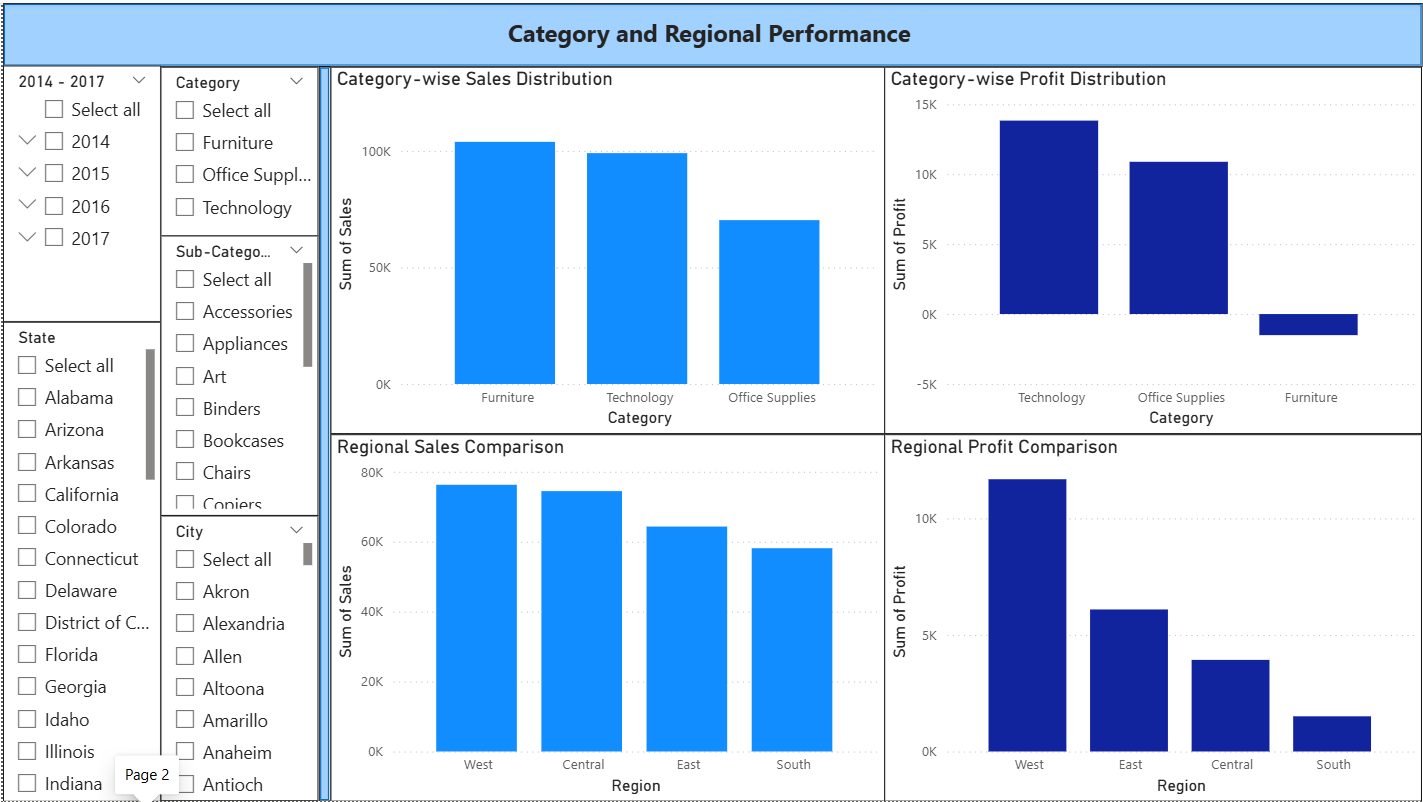

The page's visual inventory and layout, read from the dashboard file:
{"tool":"powerbi","page":{"name":"Page 2","canvas":[1280,720],"ordinal":1},"visuals":[{"type":"shape","box":[0,0,1280.3,57.6],"z":0},{"type":"shape","box":[285,57.5,10,662.5],"z":7000},{"type":"columnChart","title":"Category-wise Sales Distribution","fields":{"Category":["Sample - Superstore.Category"],"Y":["Sum(Sample - Superstore.Sales)"]},"box":[295,57.5,500,331.2],"z":8000},{"type":"columnChart","title":"Category-wise Profit Distribution","fields":{"Category":["Sample - Superstore.Category"],"Y":["Sum(Sample - Superstore.Profit)"]},"box":[795,57.5,485,331.2],"z":9000},{"type":"columnChart","title":"Regional Sales Comparison","fields":{"Y":["Sum(Sample - Superstore.Sales)"],"Category":["Sample - Superstore.Region"]},"box":[295,388.8,500,331.2],"z":10000},{"type":"columnChart","title":"Regional Profit Comparison","fields":{"Category":["Sample - Superstore.Region"],"Y":["Sum(Sample - Superstore.Profit)"]},"box":[795,388.8,485,331.2],"z":11000},{"type":"slicer","title":"Timeline","fields":{"Values":["Sample - Superstore.Order Date.Variation.Date Hierarchy.Year","Sample - Superstore.Order Date.Variation.Date Hierarchy.Quarter","Sample - Superstore.Order Date.Variation.Date Hierarchy.Month","Sample - Superstore.Order Date.Variation.Date Hierarchy.Day"]},"box":[0,56.2,142.5,231.2],"z":11001},{"type":"slicer","fields":{"Values":["Sample - Superstore.State"]},"box":[0,287.5,142.5,432.5],"z":11002},{"type":"slicer","fields":{"Values":["Sample - Superstore.City"]},"box":[142.5,462.5,142.5,257.5],"z":11003},{"type":"slicer","fields":{"Values":["Sample - Superstore.Category"]},"box":[142.5,57.5,142.5,152.5],"z":11004},{"type":"slicer","fields":{"Values":["Sample - Superstore.Sub-Category"]},"box":[142.5,210,142.5,252.5],"z":11005},{"type":"textbox","box":[406.2,6.9,467.9,43.9],"z":11006}]}

Visuals, with their boxes on the page's 1280x720 design canvas (x1, y1, x2, y2). These are canvas units, not pixel positions in the 1423x802 screenshot, which may show the page scaled, cropped or inside an application window:
shape: [x1=0, y1=0, x2=1280, y2=58]
shape: [x1=285, y1=58, x2=295, y2=720]
"Category-wise Sales Distribution" columnChart: [x1=295, y1=58, x2=795, y2=389]
"Category-wise Profit Distribution" columnChart: [x1=795, y1=58, x2=1280, y2=389]
"Regional Sales Comparison" columnChart: [x1=295, y1=389, x2=795, y2=720]
"Regional Profit Comparison" columnChart: [x1=795, y1=389, x2=1280, y2=720]
"Timeline" slicer: [x1=0, y1=56, x2=142, y2=287]
slicer - Sample - Superstore.State: [x1=0, y1=288, x2=142, y2=720]
slicer - Sample - Superstore.City: [x1=142, y1=462, x2=285, y2=720]
slicer - Sample - Superstore.Category: [x1=142, y1=58, x2=285, y2=210]
slicer - Sample - Superstore.Sub-Category: [x1=142, y1=210, x2=285, y2=462]
textbox: [x1=406, y1=7, x2=874, y2=51]
